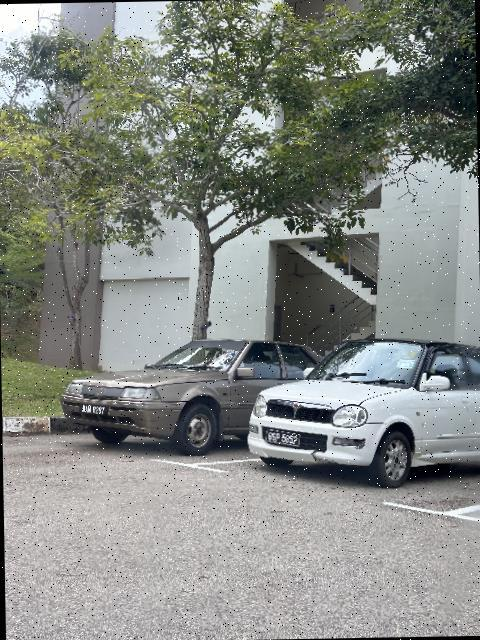AJM8257: (78, 402, 111, 422)
GSP5652: (265, 429, 302, 453)
License_Plate: (265, 429, 302, 453), (78, 402, 111, 422)
car: (239, 329, 480, 488), (59, 324, 319, 454)
